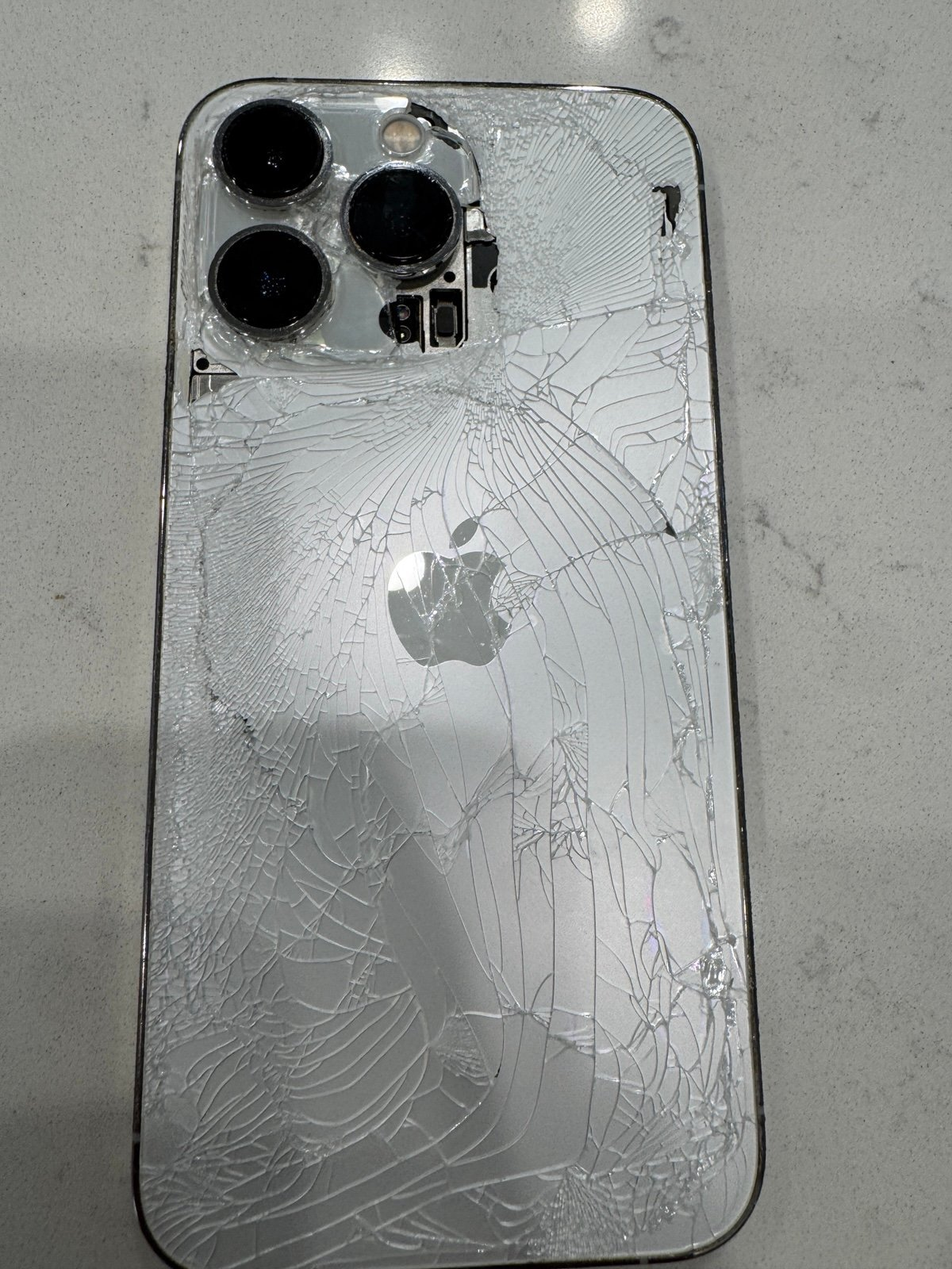crack_phone: (114, 37, 801, 1266)
